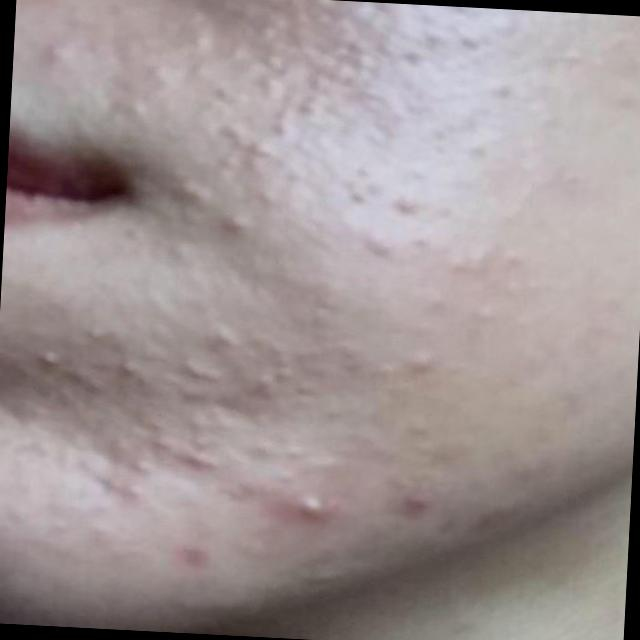fungal: (149, 0, 580, 282), (11, 304, 286, 514)
